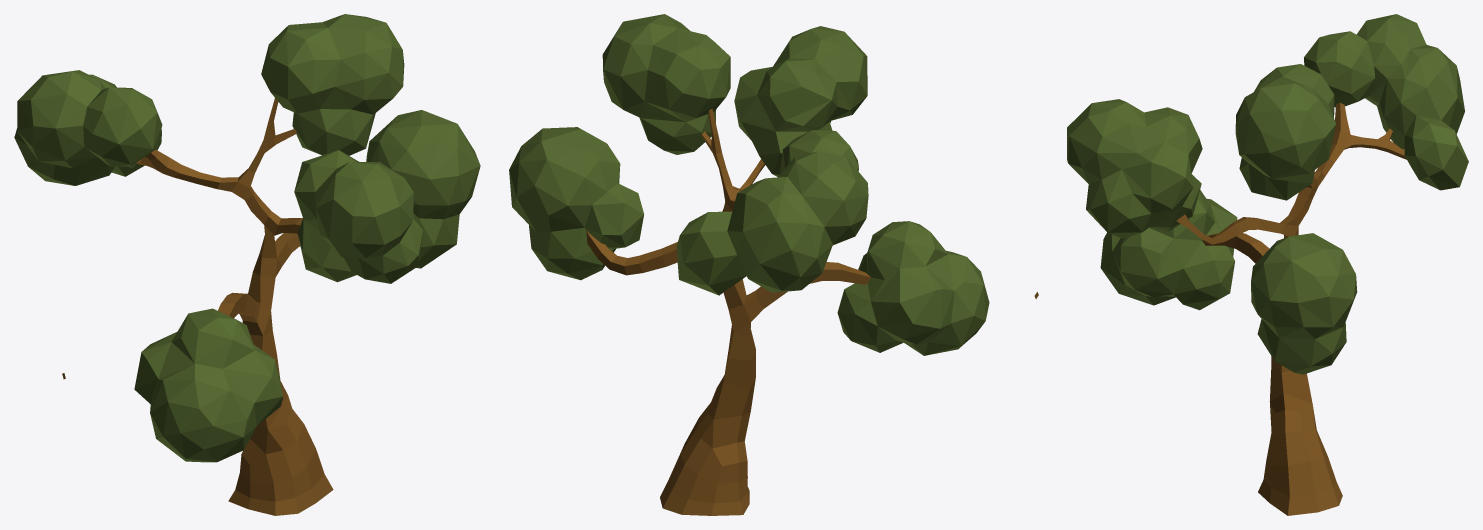
Rendered from tree02.fbx.
3 renders of one model, left to right at view 1: azimuth 30°, elevation 25°; view 2: azimuth 150°, elevation 25°; view 3: azimuth 270°, elevation 25°, orthographic. The views are drawn at different scales.
Parts seen in each view (by area): view 1: unmergedModels; view 2: unmergedModels; view 3: unmergedModels.
Boxes of the visible parts, x1=… form: unmergedModels: x1=14, y1=14, x2=480, y2=515; unmergedModels: x1=509, y1=14, x2=1038, y2=515; unmergedModels: x1=1067, y1=14, x2=1468, y2=515.
Bounding box in the file's own units: 34.14 × 32.57 × 26.98.
